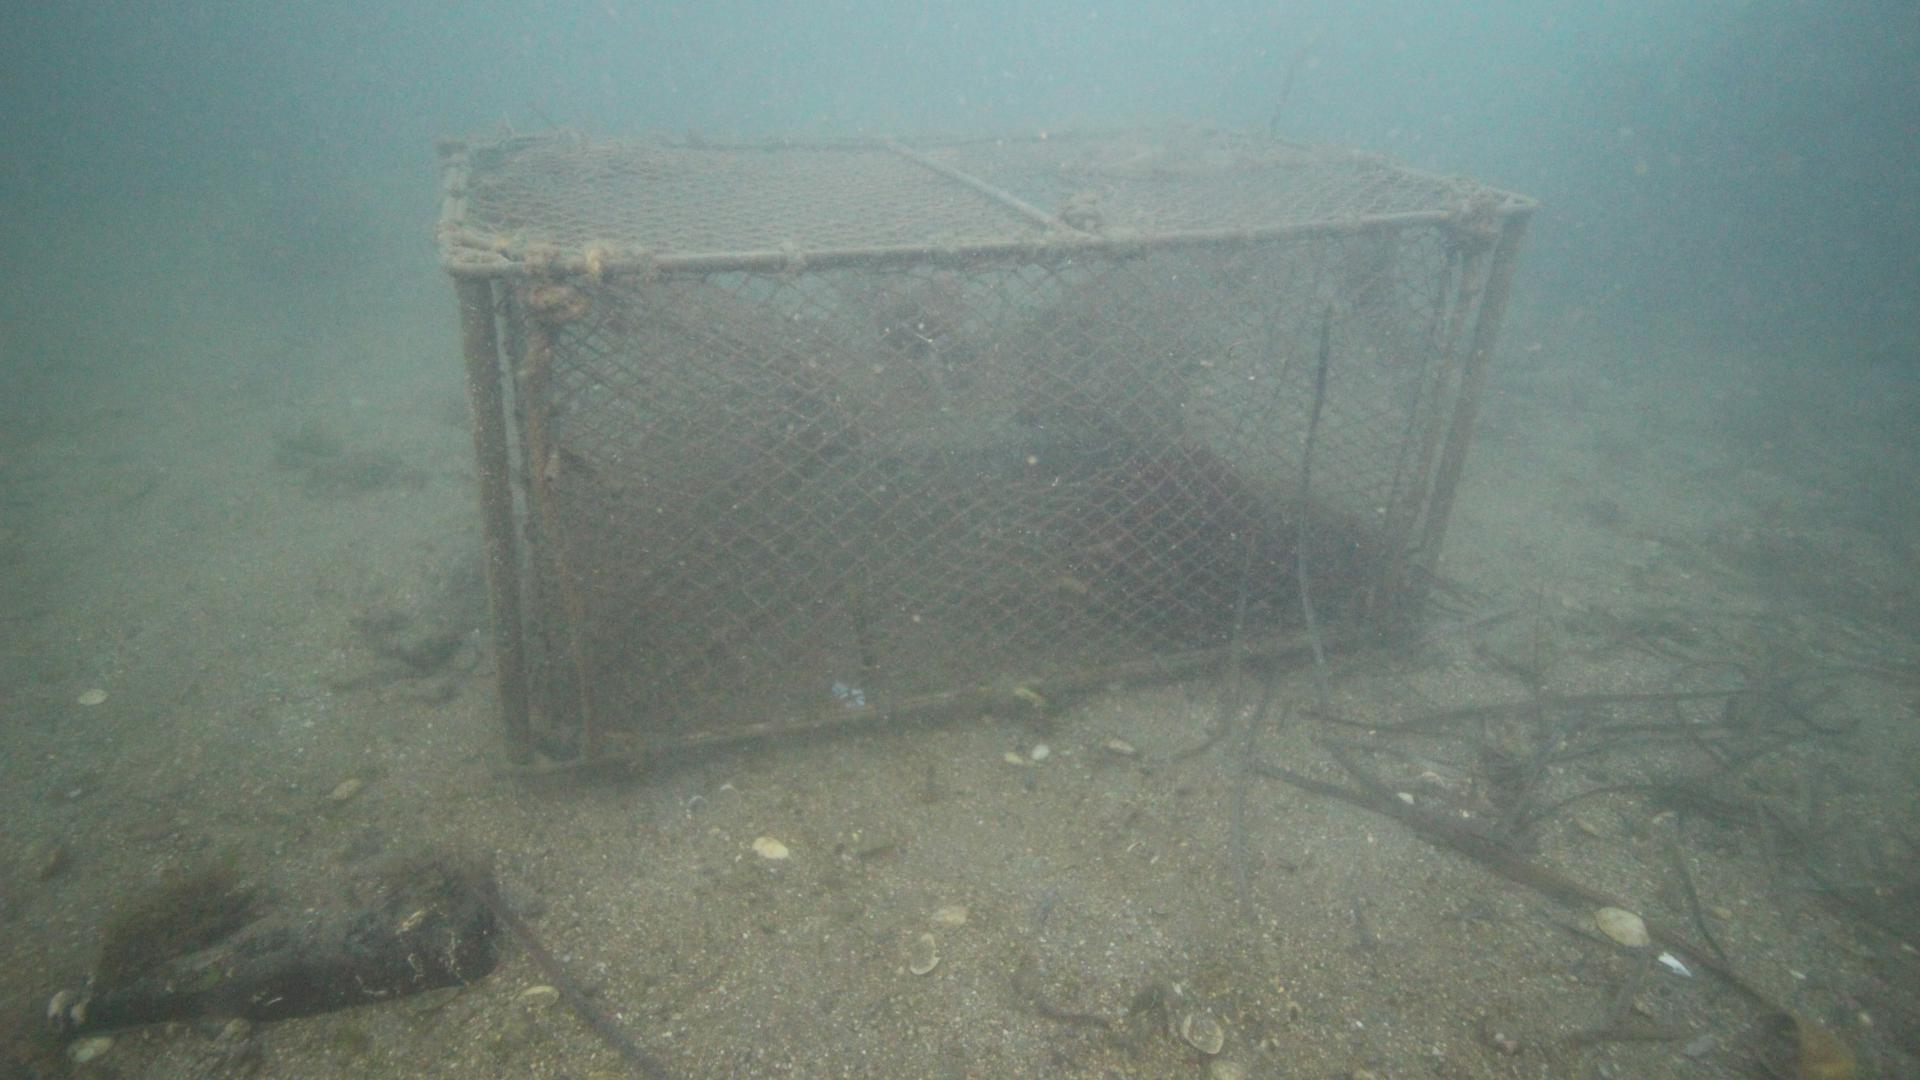rectangular fish trap: (433, 129, 1544, 783)
